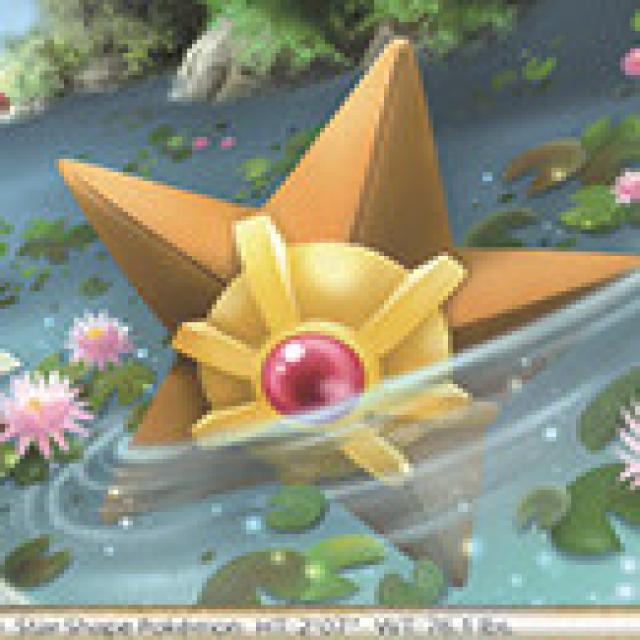Staryu: (94, 36, 574, 523)
